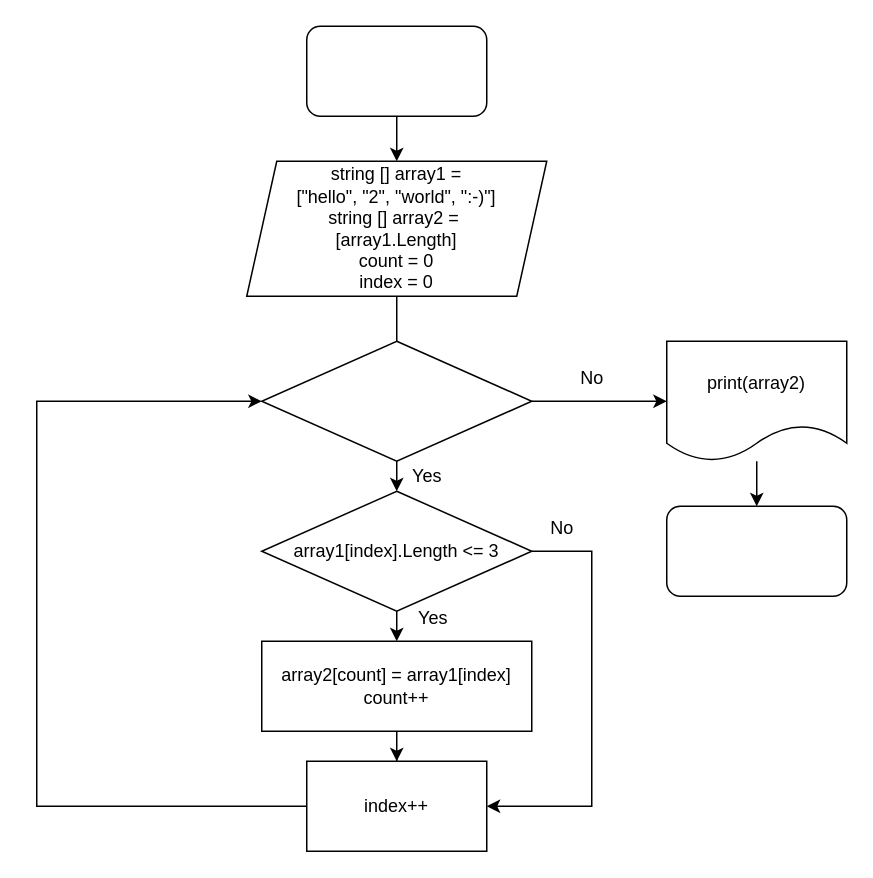
Some shapes in this 873 by 878 pixel diagram are drawn without their labels. The shapes that lost their labels are listed below. From the top down, each one's box as (x1, y1, x2, y2) in pixels, then its label:
(305, 25, 487, 116): Start
(260, 340, 532, 461): index < array1.Length
(665, 505, 847, 596): End
